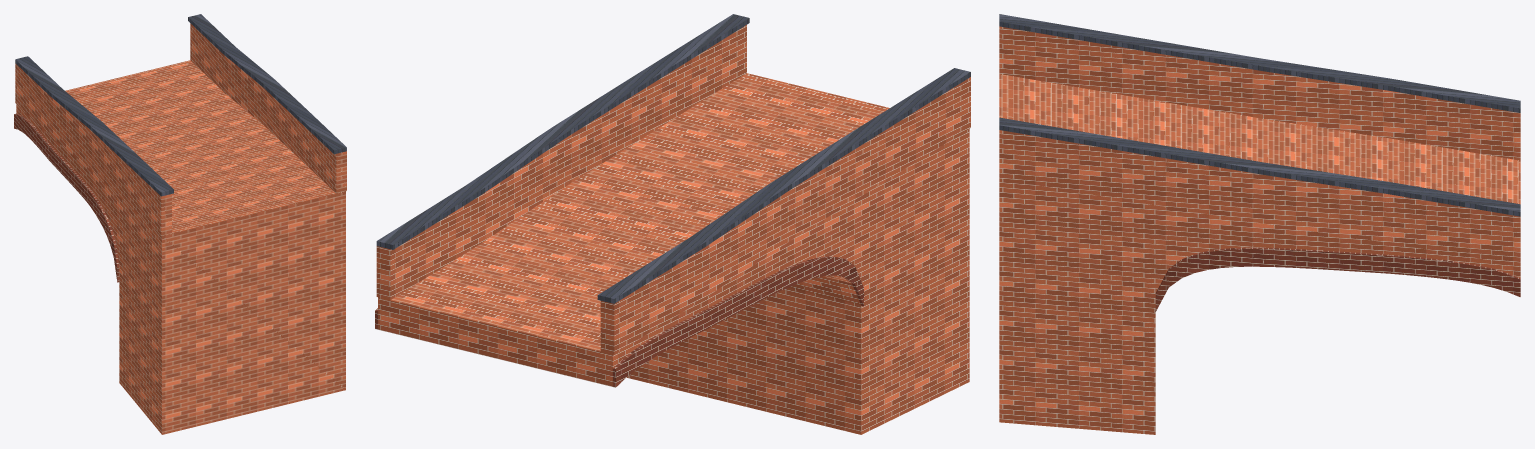
The model's file is bridge-5.glb.
3 renders of one model, left to right at view 1: azimuth 30°, elevation 25°; view 2: azimuth 150°, elevation 25°; view 3: azimuth 270°, elevation 25°, orthographic. The views are drawn at different scales.
Parts seen in each view (by area): view 1: Masonry, Parapet.001, ArchRing; view 2: Masonry, Parapet.001, ArchRing; view 3: Masonry, Parapet.001, ArchRing.
Boxes of the visible parts, x1,y1,x2,y2 form: Masonry: (15, 23, 346, 434); Parapet.001: (15, 14, 346, 196); ArchRing: (14, 113, 119, 282); Masonry: (376, 25, 970, 434); Parapet.001: (376, 14, 970, 303); ArchRing: (375, 256, 863, 387); Masonry: (999, 26, 1520, 434); Parapet.001: (999, 14, 1520, 216); ArchRing: (1155, 247, 1520, 311).
Bounding box in the file's own units: 8.27 × 7.56 × 12.
Materials: 3 (3 with a texture image).
